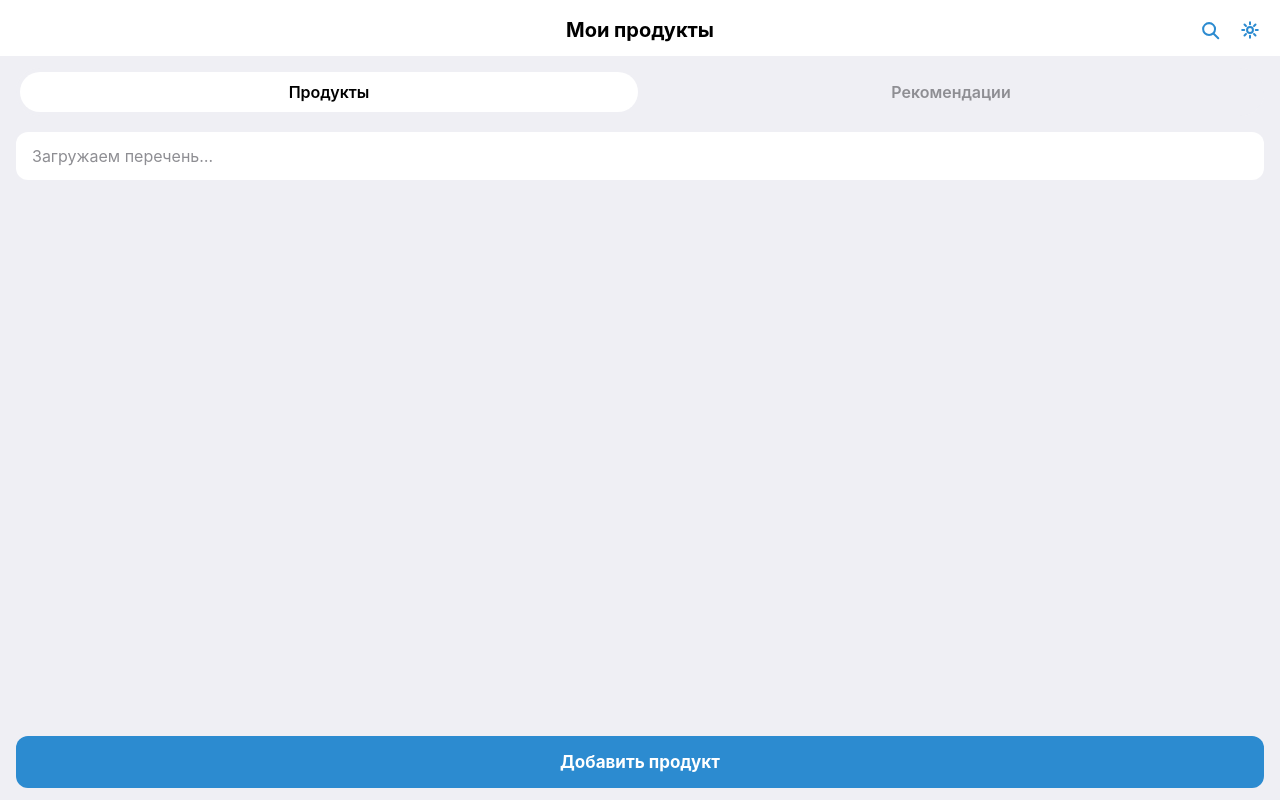
it: кнопка действия экрана › заполненная форма делает кнопку активной и сохраняет
Check: the heading "Мои продукты" is shown, box [566, 18, 714, 42]
Check: the button "Сохранить" is not shown
Click the button "Добавить продукт". click: click(640, 762)
box: [16, 736, 1264, 788]
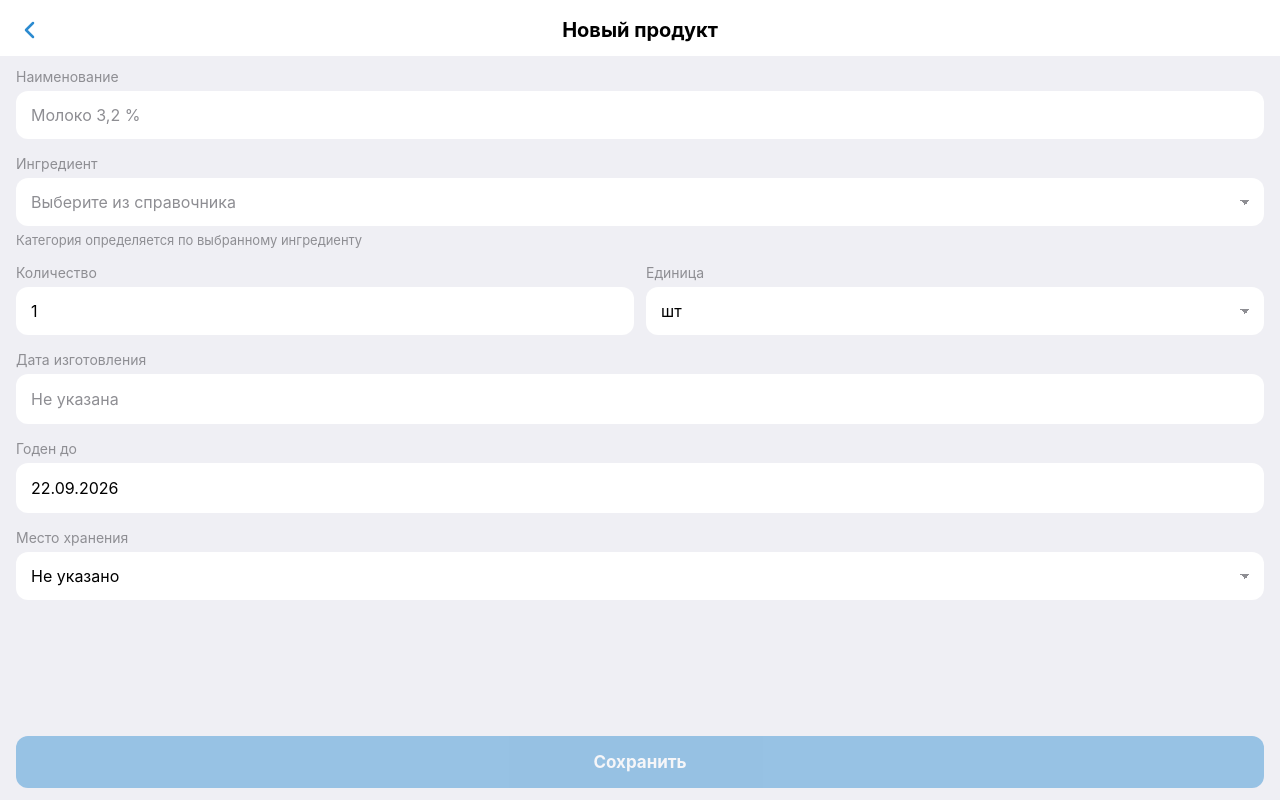
Check: the heading "Новый продукт" is shown, box [562, 18, 718, 42]
Check: the button "Сохранить" is shown, box [16, 736, 1264, 788]
Check: the button "Добавить продукт" is gone
Type "Кефир" into the field with placeholder "Молоко 3,2 %". click: (640, 115)
box: [16, 91, 1264, 139]
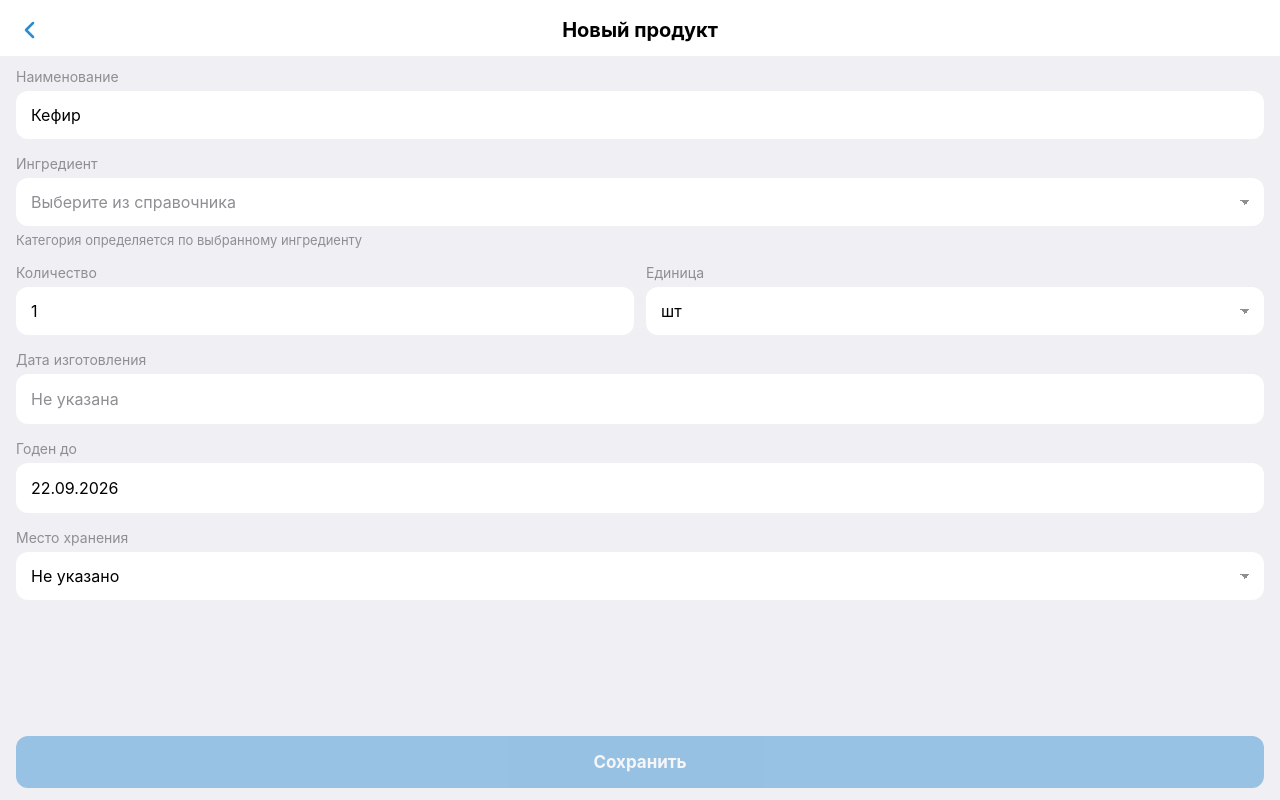
Select "молоко" in the dropdown labelled "Ингредиент Категория определяется по выбранному ингредиенту". click: (640, 202)
box: [16, 178, 1264, 226]
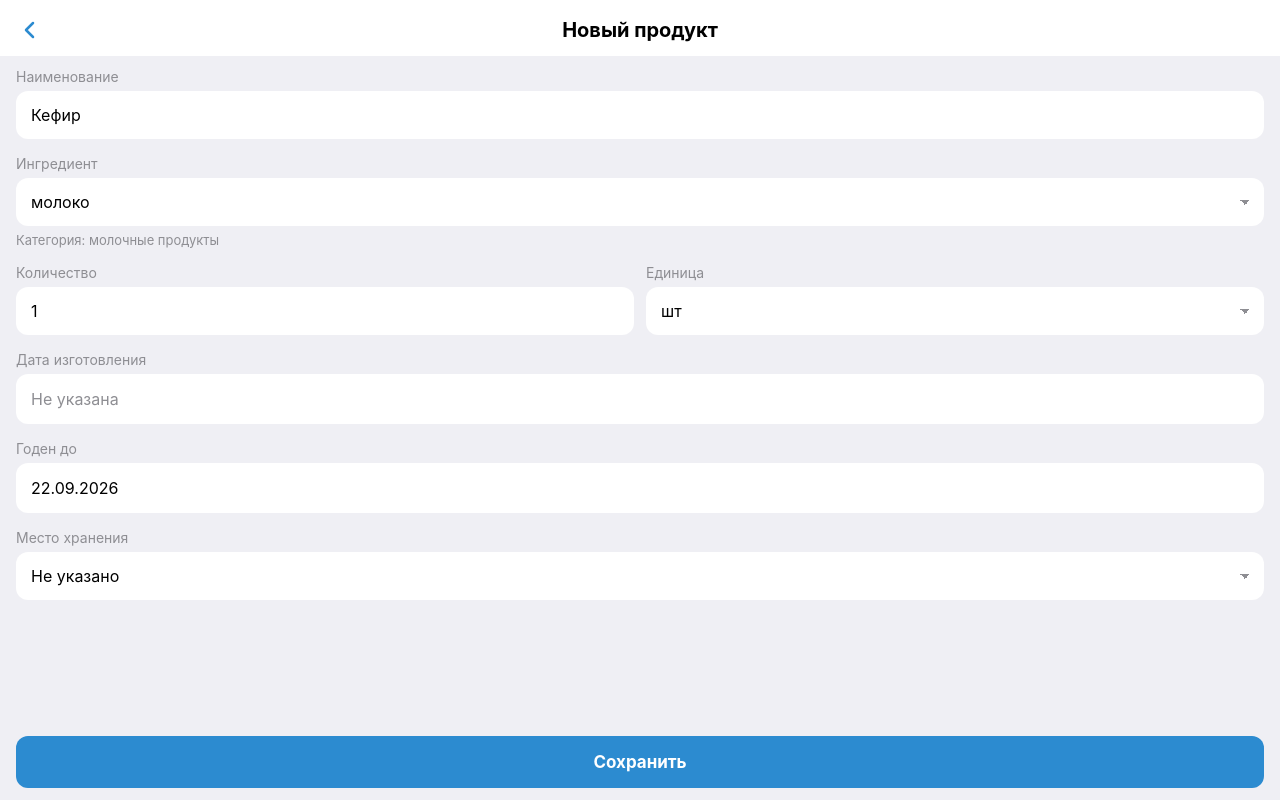
Check: the button "Сохранить" does not have attribute aria-disabled
Click the button "Сохранить". click: click(640, 762)
box: [16, 736, 1264, 788]
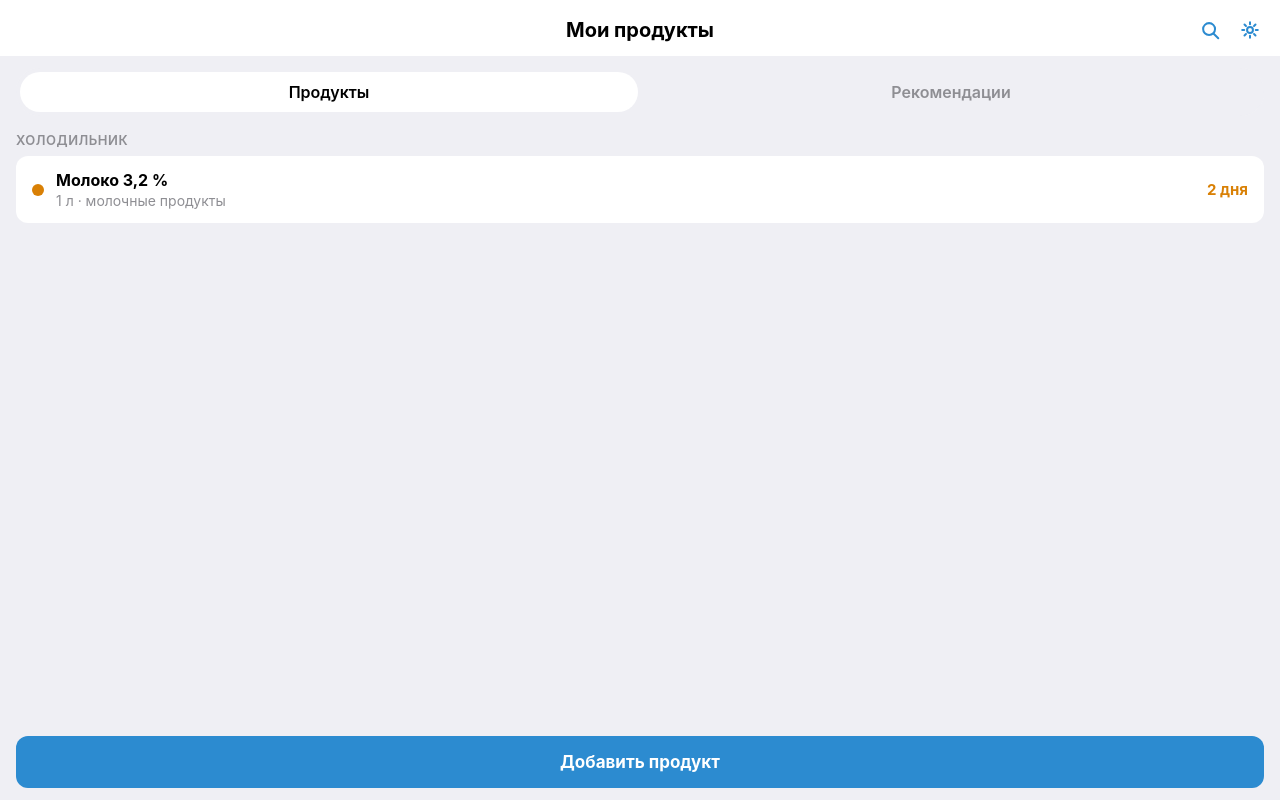
Check: the heading "Мои продукты" is shown, box [566, 18, 714, 42]
Check: the button "Добавить продукт" is shown, box [16, 736, 1264, 788]
Check: the button "Сохранить" is gone
